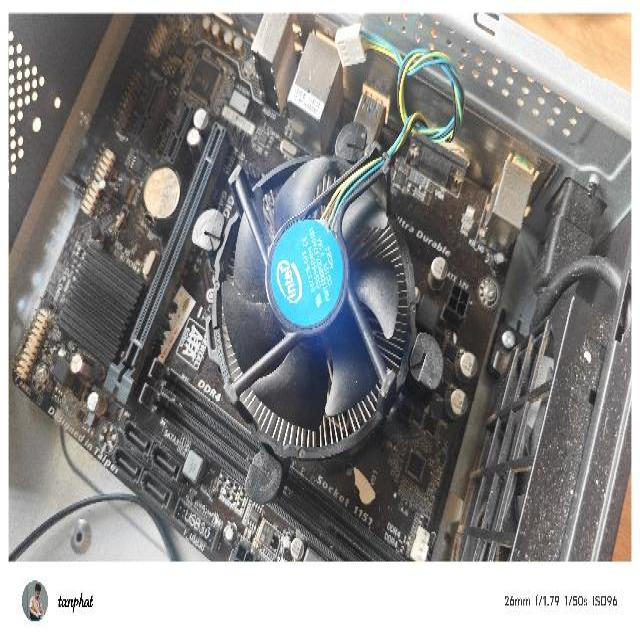CPU_Fan: (192, 121, 446, 505)
Mainboard: (12, 13, 482, 564)
